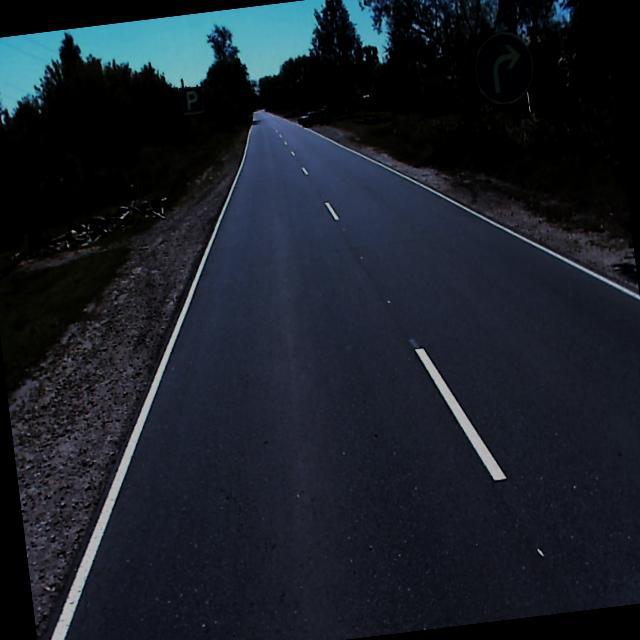road: (43, 108, 640, 640)
